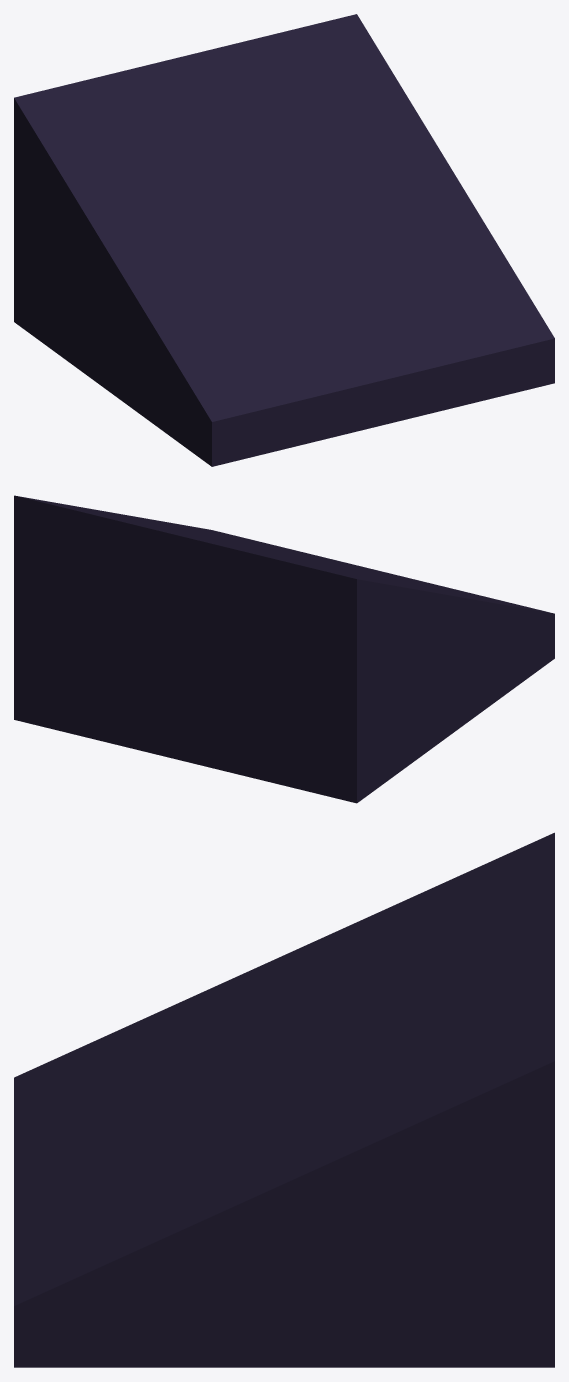
Rendered from BRoofPanel_D.fbx.
3 views of the same model, one above another, from view 1: azimuth 30°, elevation 25°; view 2: azimuth 150°, elevation 25°; view 3: azimuth 270°, elevation 25° (orthographic). The views are drawn at different scales.
Parts seen in each view (by area): view 1: BRoofPannel_A.044; view 2: BRoofPannel_A.044; view 3: BRoofPannel_A.044.
Part boxes in pixels (box(x1,y1,x2,y2)): BRoofPannel_A.044: box(14, 14, 554, 466); BRoofPannel_A.044: box(14, 495, 554, 803); BRoofPannel_A.044: box(14, 832, 554, 1367).
Size of the model in its own units: 400 by 250 by 400.
